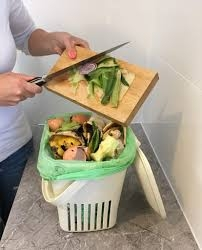kitchen_waste: (83, 62, 133, 105), (86, 128, 124, 160), (61, 140, 91, 165), (71, 111, 96, 130), (49, 115, 69, 133)
metal: (27, 37, 130, 85)
plastic: (26, 161, 149, 232)
